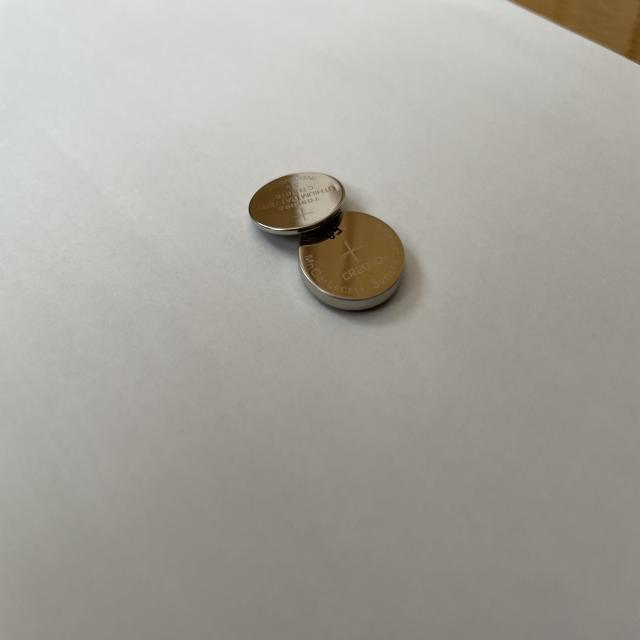COIN: (298, 213, 407, 312), (245, 171, 344, 239)
